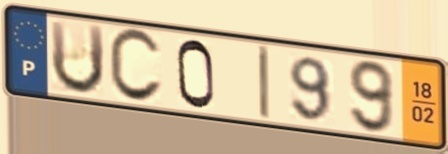0: (174, 37, 216, 111)
9: (346, 57, 396, 137), (286, 54, 337, 123)
C: (106, 26, 166, 106)
I: (255, 43, 273, 123)
U: (47, 17, 107, 97)
